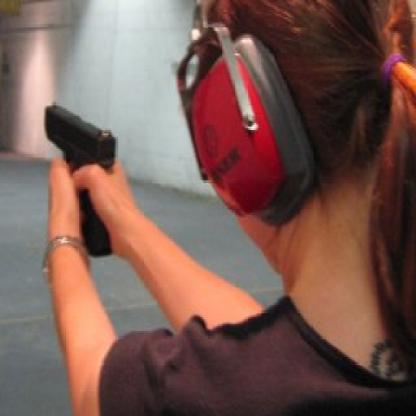gun: (40, 104, 116, 260)
